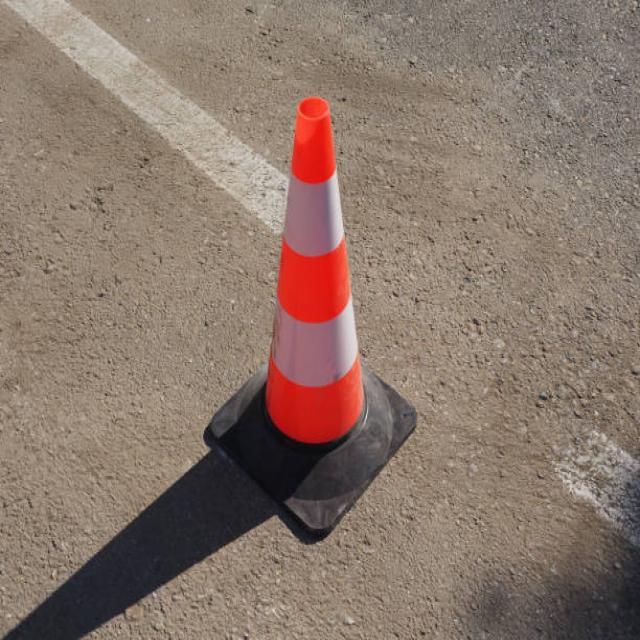Traffic Cone: (170, 52, 494, 581)
